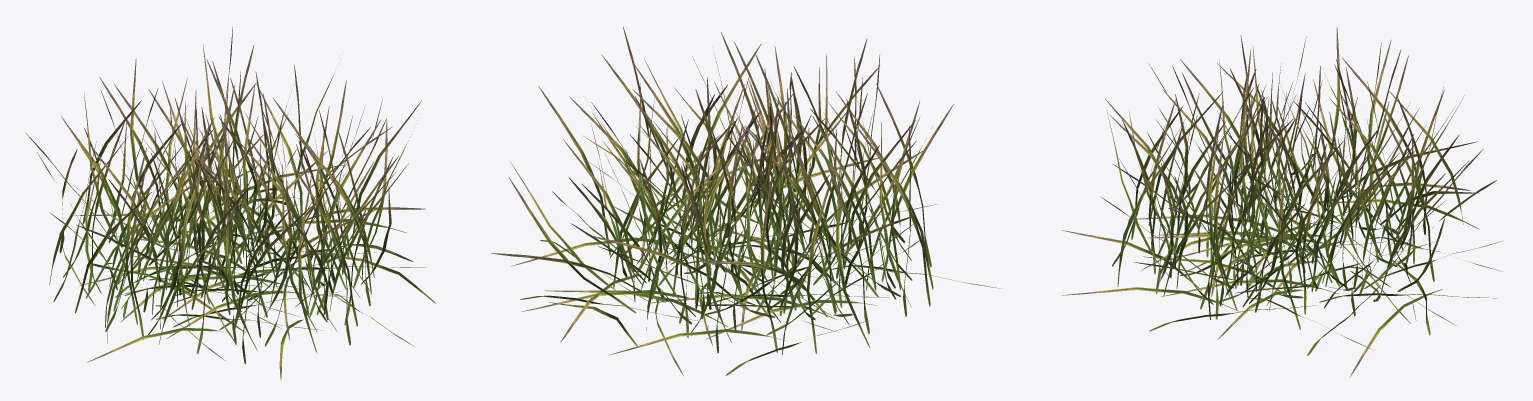
The model's file is grass_clump.glb.
3 renders of one model, left to right at view 1: azimuth 30°, elevation 25°; view 2: azimuth 150°, elevation 25°; view 3: azimuth 270°, elevation 25°, orthographic. The views are drawn at different scales.
Visible parts, largest first — view 1: RealisticGrassClump; view 2: RealisticGrassClump; view 3: RealisticGrassClump.
Boxes of the visible parts, x1,y1,x2,y2 form: RealisticGrassClump: (26, 27, 435, 379); RealisticGrassClump: (491, 26, 1002, 376); RealisticGrassClump: (1061, 27, 1503, 377).
Bounding box in the file's own units: 0.9007 × 0.48 × 0.9162.
Materials: 1 (1 with a texture image).
